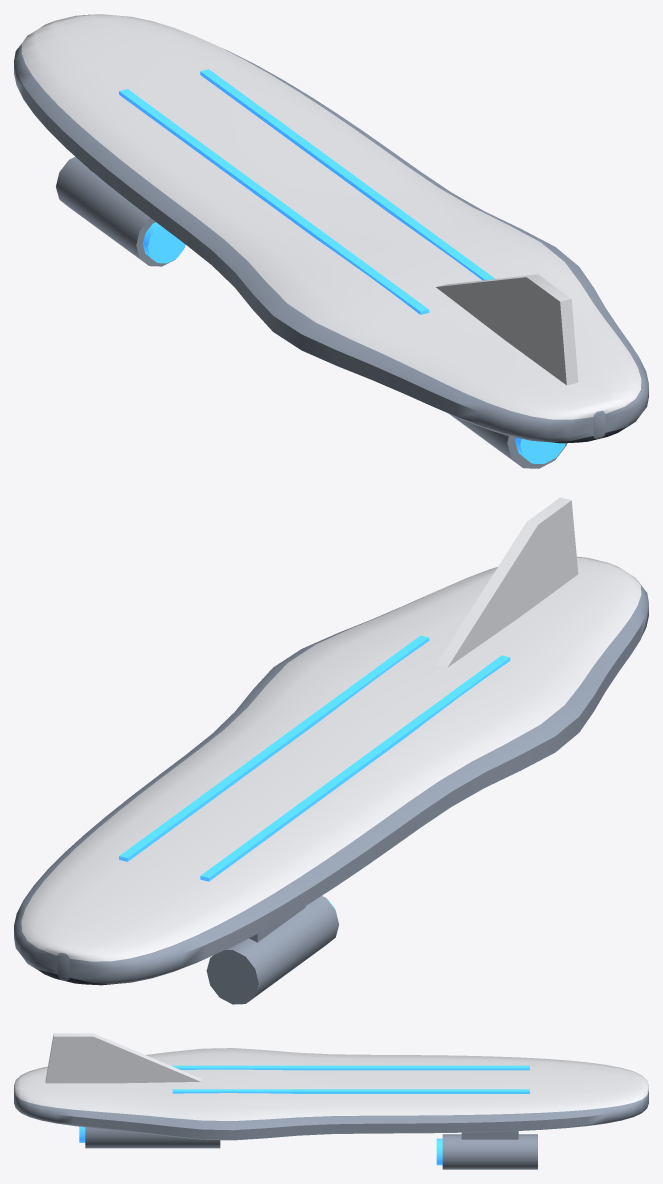
The model's file is hoverboard_futuristic.glb.
The picture shows the model from 3 angles, top to bottom: view 1: azimuth 30°, elevation 25°; view 2: azimuth 150°, elevation 25°; view 3: azimuth 270°, elevation 25°; orthographic projection. The views are drawn at different scales.
Visible parts, largest first — view 1: Hoverboard_Deck, Hoverboard_Thrusters; view 2: Hoverboard_Deck, Hoverboard_Thrusters; view 3: Hoverboard_Deck, Hoverboard_Thrusters.
Boxes of the visible parts, <box> form: Hoverboard_Deck: <box>14,14,648,443</box>; Hoverboard_Thrusters: <box>56,156,566,468</box>; Hoverboard_Deck: <box>14,497,648,985</box>; Hoverboard_Thrusters: <box>206,896,338,1004</box>; Hoverboard_Deck: <box>14,1033,648,1140</box>; Hoverboard_Thrusters: <box>79,1126,537,1169</box>.
Size of the model in its own units: 0.4865 by 0.31 by 1.6.
